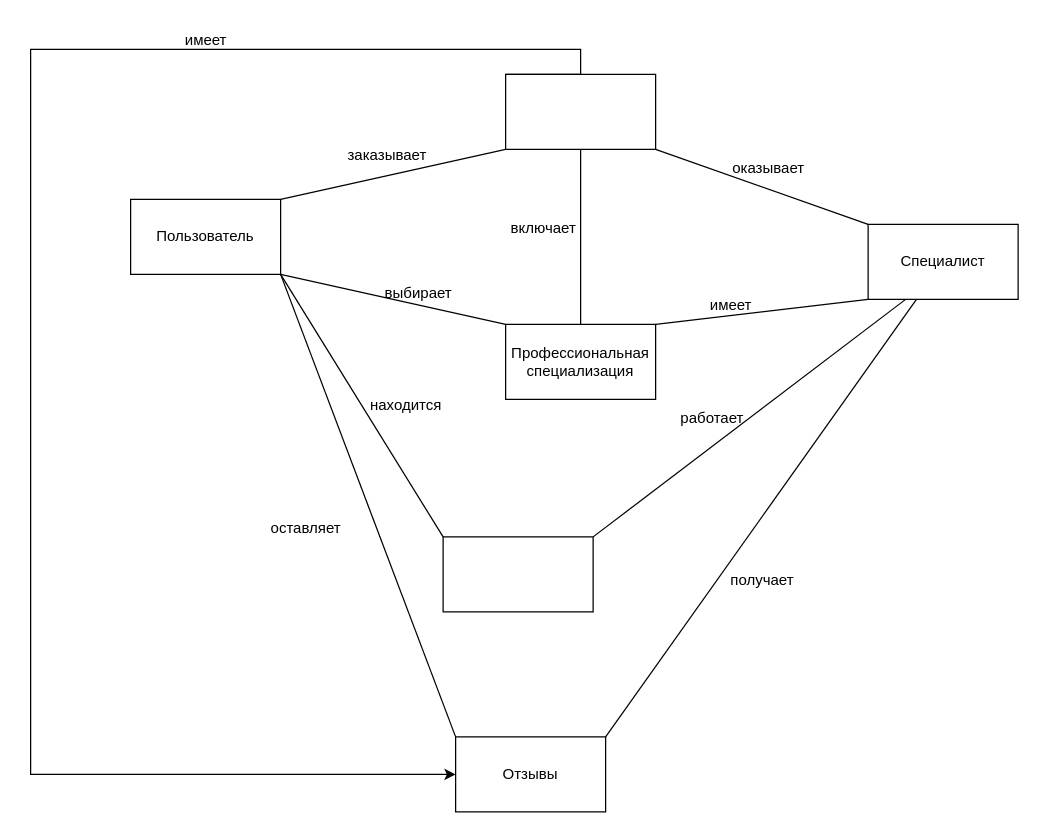
Some shapes in this 1040 by 834 pixel diagram are drawn without their labels. The box of each missing label's shape, as (x1, y1, x2, y2) in pixels:
Географические данные: (442, 536, 593, 612)
Услуги: (504, 73, 656, 149)
